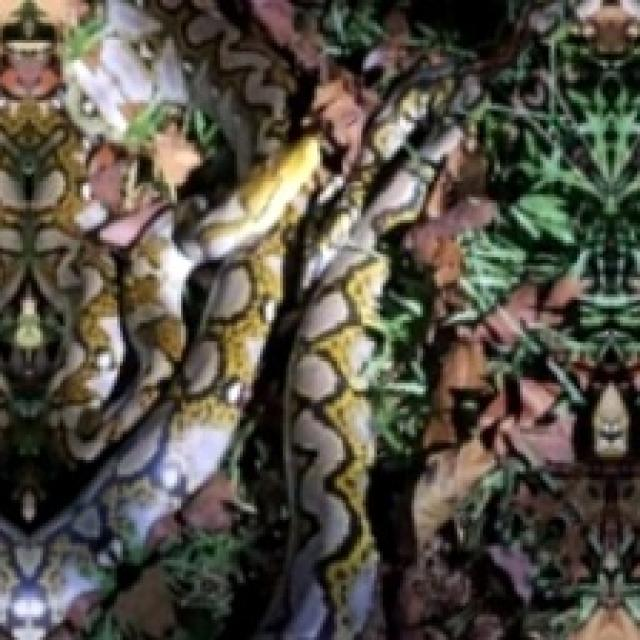reticulated python: (0, 131, 318, 640), (279, 89, 438, 639), (146, 0, 306, 177)
